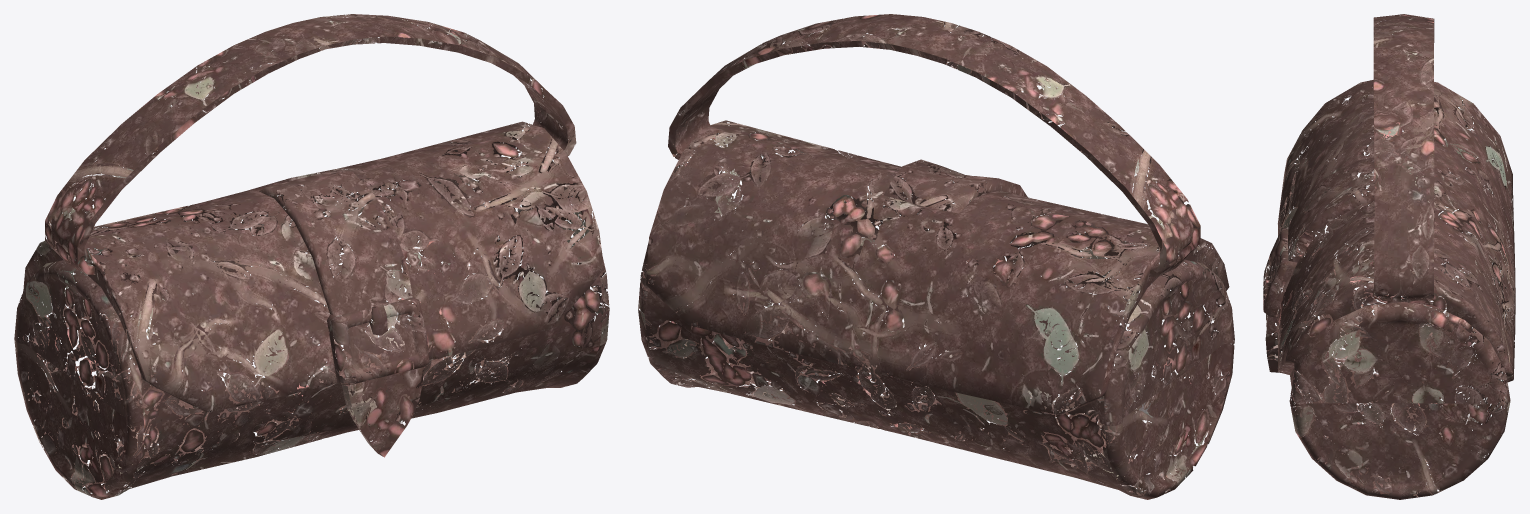
3 views of the same model, side by side, from view 1: azimuth 30°, elevation 25°; view 2: azimuth 150°, elevation 25°; view 3: azimuth 270°, elevation 25° (orthographic). The views are drawn at different scales.
Parts seen in each view (by area): view 1: SM_Planter_RegularCompost_01_LOD0; view 2: SM_Planter_RegularCompost_01_LOD0; view 3: SM_Planter_RegularCompost_01_LOD0.
Boxes of the visible parts, box(x1,y1,x2,y2) form: SM_Planter_RegularCompost_01_LOD0: box(14, 14, 609, 499); SM_Planter_RegularCompost_01_LOD0: box(638, 14, 1234, 499); SM_Planter_RegularCompost_01_LOD0: box(1263, 14, 1515, 499).
Bounding box in the file's own units: 0.6275 × 0.483 × 0.3064.
